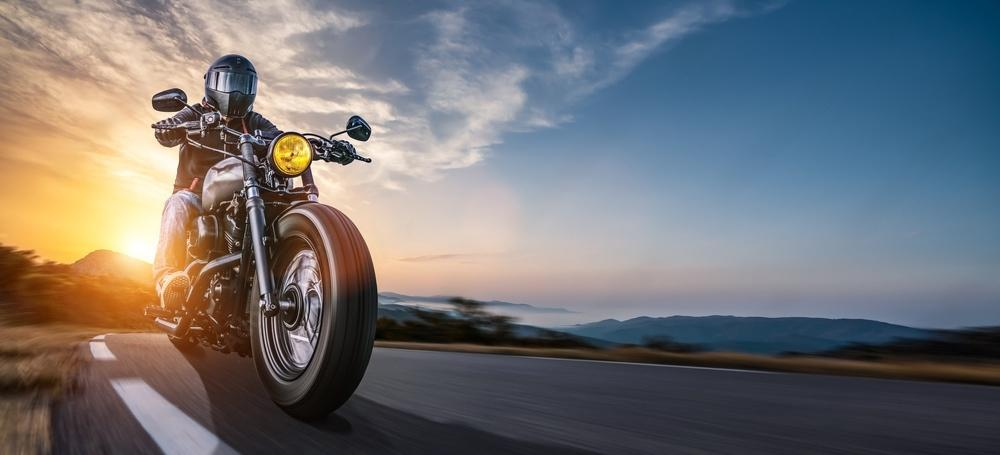helmet: (203, 53, 259, 119)
